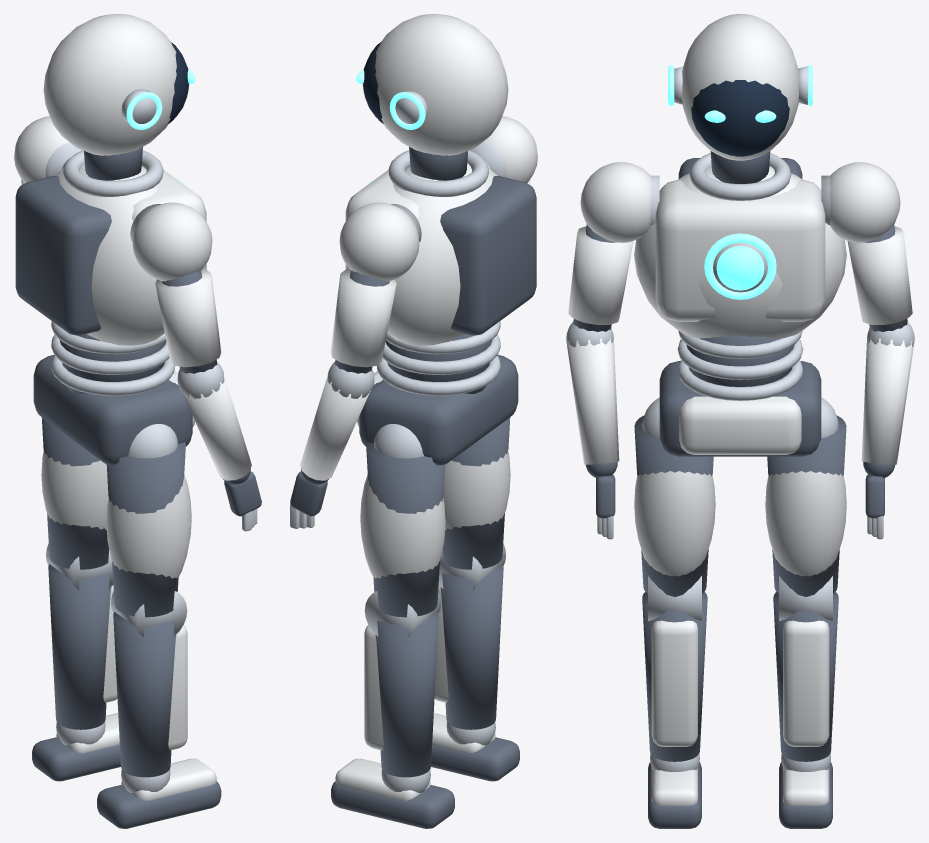
Rendered from humanoid_robot.glb.
3 views of the same model, side by side, from view 1: azimuth 30°, elevation 25°; view 2: azimuth 150°, elevation 25°; view 3: azimuth 270°, elevation 25° (orthographic).
Visible parts, largest first — view 1: HeadCranium, BackPack, ShinCore_-1, ShinCore_1, Pelvis, ChestBase, ThighCore_-1, ThighArmor_-1, Shoulder_-1, UpperArmArmor_-1, ThighArmor_1, ThighCore_1 (+27 smaller); view 2: HeadCranium, BackPack, ShinCore_1, ShinCore_-1, Pelvis, ChestBase, ThighCore_1, ThighArmor_1, Shoulder_1, UpperArmArmor_1, ThighArmor_-1, ThighCore_-1 (+27 smaller); view 3: ChestFrontPlate, HeadCranium, ChestBase, ThighArmor_1, ThighArmor_-1, PelvisArmor, ShinArmor_1, ShinArmor_-1, FaceVisor, Forearm_1, Forearm_-1, Shoulder_1 (+26 smaller).
Boxes of the visible parts, x1=… form: HeadCranium: x1=43, y1=14, x2=176, y2=155; BackPack: x1=15, y1=176, x2=111, y2=335; ShinCore_-1: x1=113, y1=611, x2=176, y2=777; ShinCore_1: x1=48, y1=564, x2=111, y2=729; Pelvis: x1=33, y1=355, x2=192, y2=465; ChestBase: x1=54, y1=163, x2=164, y2=345; ThighCore_-1: x1=106, y1=442, x2=185, y2=617; ThighArmor_-1: x1=106, y1=475, x2=191, y2=578; Shoulder_-1: x1=132, y1=202, x2=212, y2=281; UpperArmArmor_-1: x1=155, y1=269, x2=221, y2=367; ThighArmor_1: x1=41, y1=450, x2=108, y2=530; ThighCore_1: x1=41, y1=417, x2=109, y2=569; HeadCranium: x1=375, y1=14, x2=508, y2=155; BackPack: x1=440, y1=176, x2=536, y2=335; ShinCore_1: x1=375, y1=611, x2=438, y2=777; ShinCore_-1: x1=440, y1=564, x2=503, y2=729; Pelvis: x1=359, y1=355, x2=518, y2=465; ChestBase: x1=387, y1=163, x2=497, y2=345; ThighCore_1: x1=366, y1=442, x2=445, y2=617; ThighArmor_1: x1=360, y1=475, x2=445, y2=578; Shoulder_1: x1=339, y1=202, x2=419, y2=281; UpperArmArmor_1: x1=330, y1=269, x2=396, y2=367; ThighArmor_-1: x1=443, y1=450, x2=510, y2=530; ThighCore_-1: x1=442, y1=417, x2=510, y2=569; ChestFrontPlate: x1=655, y1=179, x2=825, y2=321; HeadCranium: x1=682, y1=14, x2=799, y2=160; ChestBase: x1=634, y1=166, x2=846, y2=338; ThighArmor_1: x1=765, y1=471, x2=846, y2=576; ThighArmor_-1: x1=634, y1=471, x2=715, y2=576; PelvisArmor: x1=679, y1=396, x2=801, y2=454; ShinArmor_1: x1=783, y1=620, x2=829, y2=746; ShinArmor_-1: x1=651, y1=620, x2=697, y2=746; FaceVisor: x1=691, y1=80, x2=789, y2=156; Forearm_1: x1=861, y1=336, x2=914, y2=464; Forearm_-1: x1=566, y1=336, x2=619, y2=464; Shoulder_1: x1=829, y1=162, x2=900, y2=242.
Bounding box in the file's own units: 0.4587 × 2.23 × 0.904.
